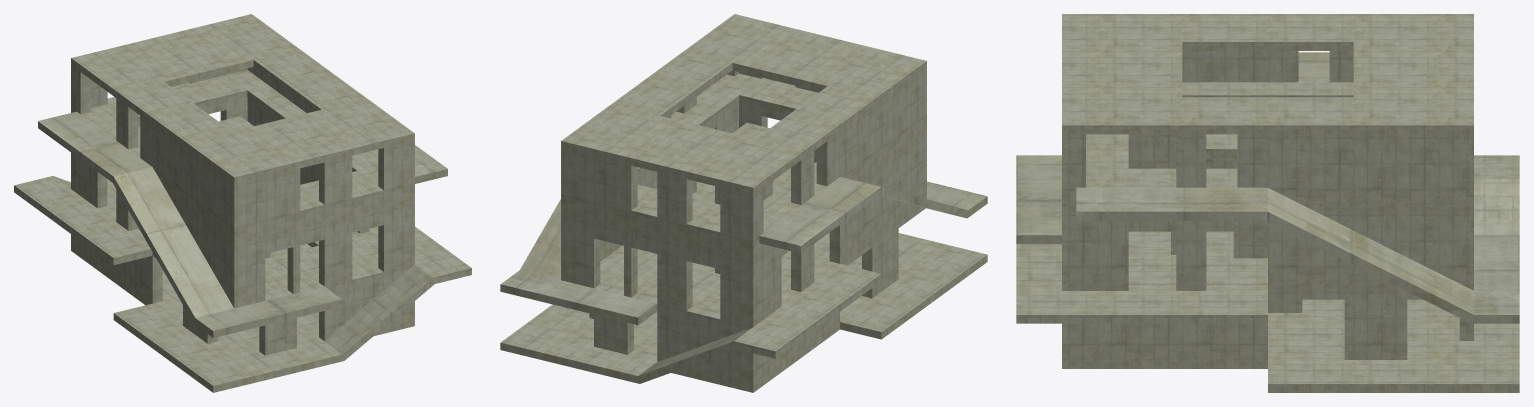
The model's file is SM_LDFest_29_00.fbx.
The picture shows the model from 3 angles, left to right: view 1: azimuth 30°, elevation 25°; view 2: azimuth 150°, elevation 25°; view 3: azimuth 270°, elevation 25°; orthographic projection. The views are drawn at different scales.
Visible parts, largest first — view 1: SM_LDFest_29_00; view 2: SM_LDFest_29_00; view 3: SM_LDFest_29_00.
Part boxes in pixels (x1,y1,x2,y2): SM_LDFest_29_00: (14, 14, 471, 392); SM_LDFest_29_00: (500, 14, 987, 392); SM_LDFest_29_00: (1016, 14, 1519, 392).
Bounding box in the file's own units: 2610 × 1859 × 3482.
